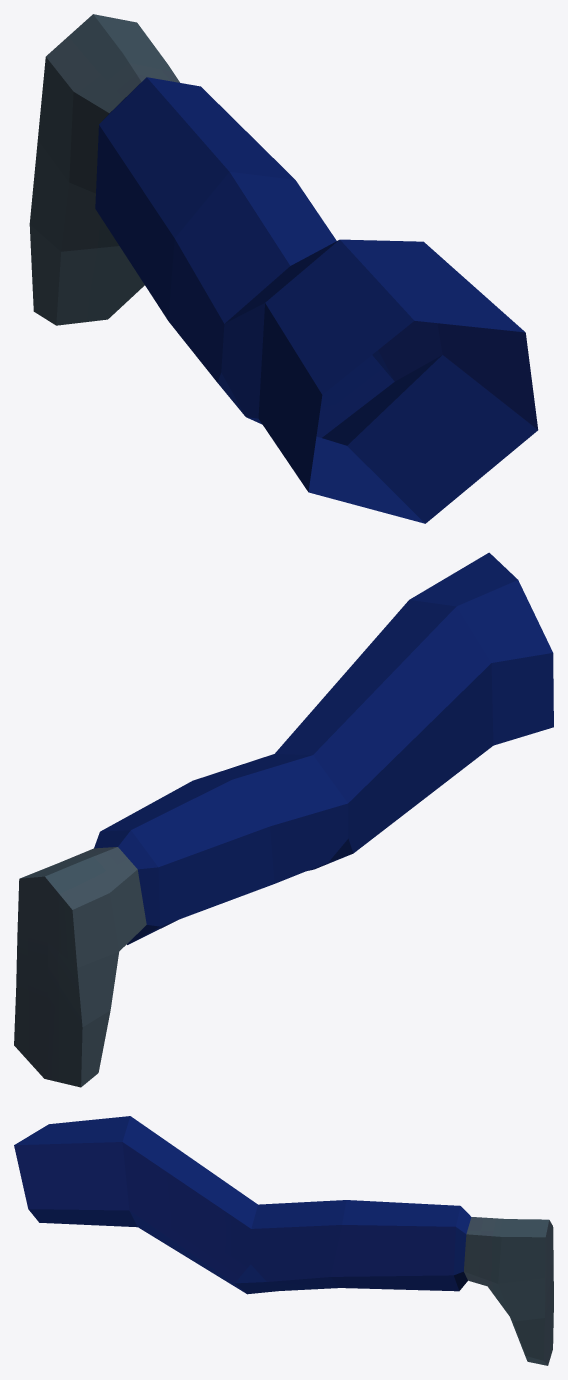
Rendered from 103_enemy_cop_001.gltf.
3 renders of one model, top to bottom at view 1: azimuth 30°, elevation 25°; view 2: azimuth 150°, elevation 25°; view 3: azimuth 270°, elevation 25°, orthographic. The views are drawn at different scales.
Parts seen in each view (by area): view 1: enemy_cop_001; view 2: enemy_cop_001; view 3: enemy_cop_001.
Part boxes in pixels (x1,y1,x2,y2): enemy_cop_001: (29, 14, 538, 523); enemy_cop_001: (14, 552, 553, 1087); enemy_cop_001: (14, 1116, 553, 1365).
Bounding box in the file's own units: 0.5938 × 0.7659 × 1.81.
1 material, 1 textured.
